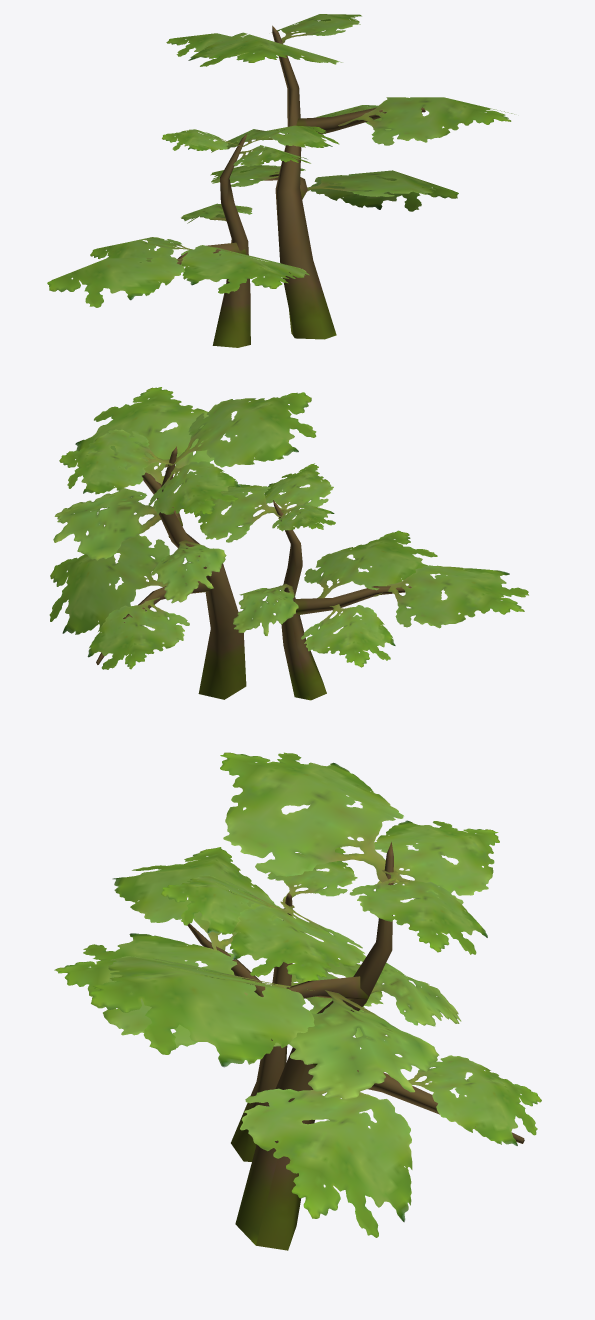
File: liemo_plant_07 (10).fbx
3 renders of one model, top to bottom at view 1: azimuth 30°, elevation 25°; view 2: azimuth 150°, elevation 25°; view 3: azimuth 270°, elevation 25°, orthographic. The views are drawn at different scales.
Visible parts, largest first — view 1: liemo_plant_07 (10); view 2: liemo_plant_07 (10); view 3: liemo_plant_07 (10).
Part boxes in pixels (box(x1,y1,x2,y2)): liemo_plant_07 (10): box(47, 14, 514, 347); liemo_plant_07 (10): box(49, 387, 528, 700); liemo_plant_07 (10): box(54, 752, 541, 1250).
Bounding box in the file's own units: 1.61 × 0.9381 × 1.1.
